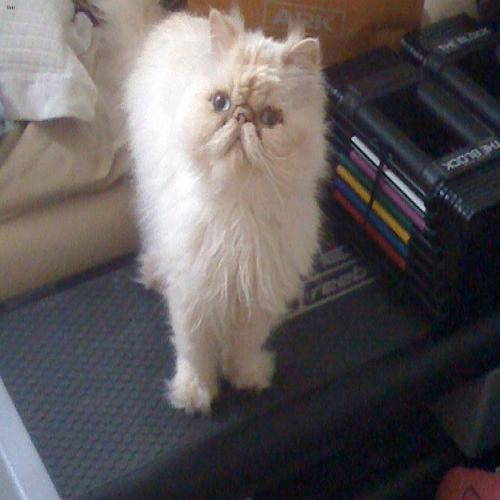persian: (162, 9, 340, 211)
